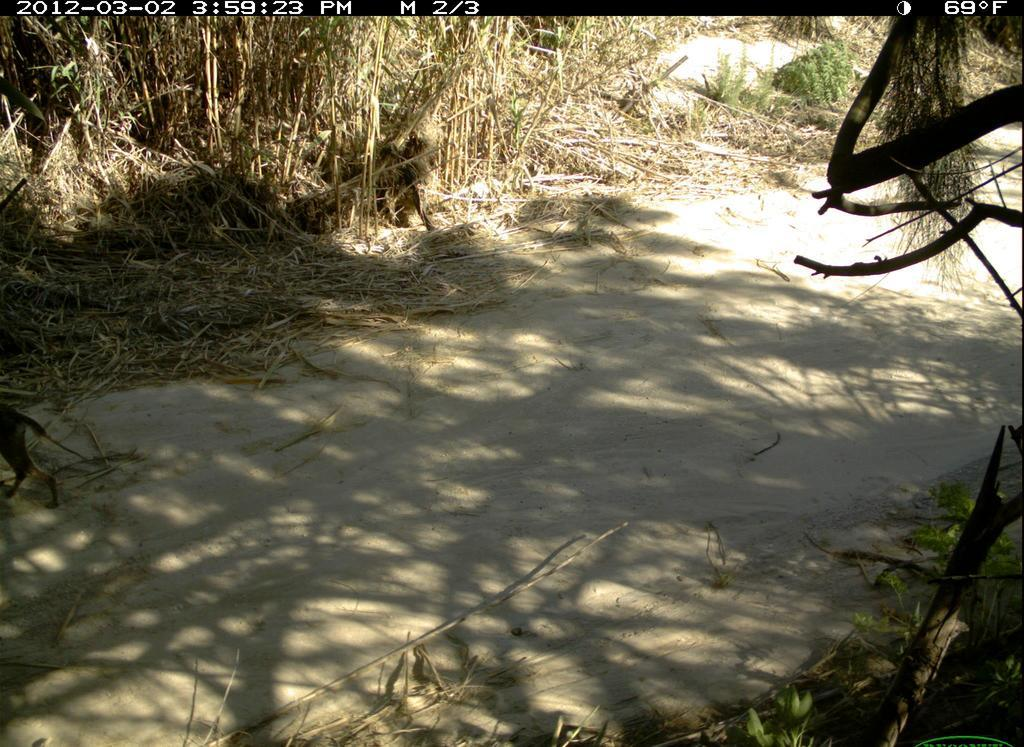coyote: (4, 387, 66, 520)
